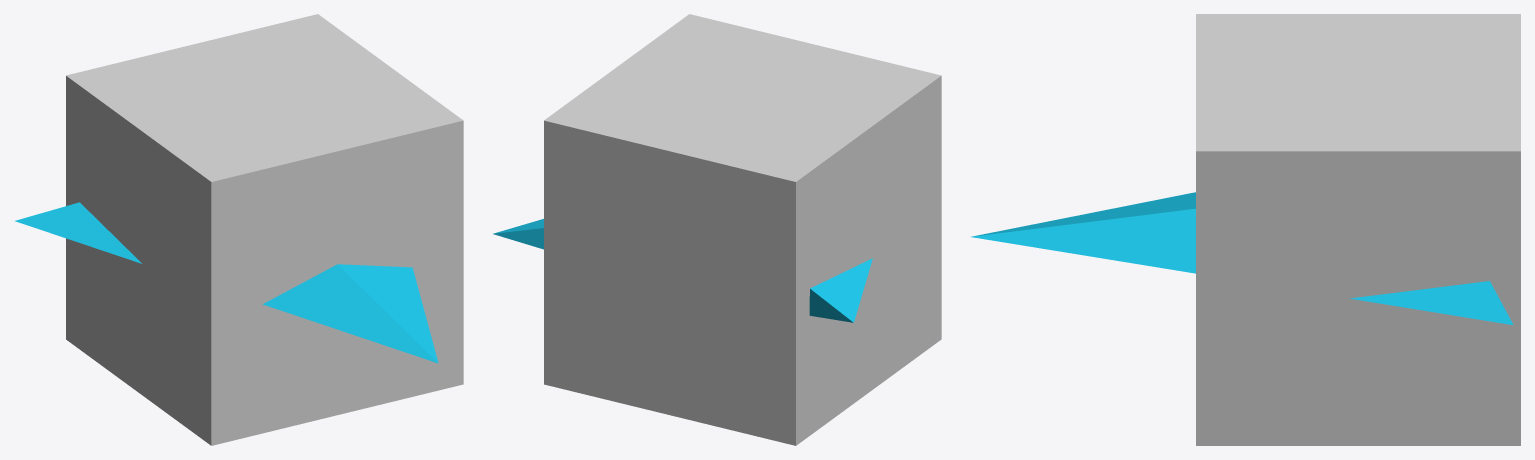
3 views of the same model, side by side, from view 1: azimuth 30°, elevation 25°; view 2: azimuth 150°, elevation 25°; view 3: azimuth 270°, elevation 25° (orthographic). The views are drawn at different scales.
Parts seen in each view (by area): view 1: Cube, group905816428; view 2: Cube, group905816428; view 3: Cube, group905816428.
Boxes of the visible parts, x1=… form: Cube: x1=66, y1=14, x2=463, y2=445; group905816428: x1=15, y1=202, x2=438, y2=363; Cube: x1=544, y1=14, x2=941, y2=445; group905816428: x1=493, y1=219, x2=872, y2=322; Cube: x1=1196, y1=14, x2=1520, y2=445; group905816428: x1=971, y1=192, x2=1513, y2=325.
Size of the model in its own units: 2.87 by 2 by 3.39.
